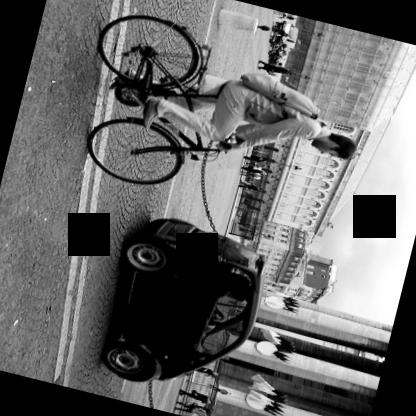backpack: (238, 71, 317, 116), (196, 405, 206, 413)
